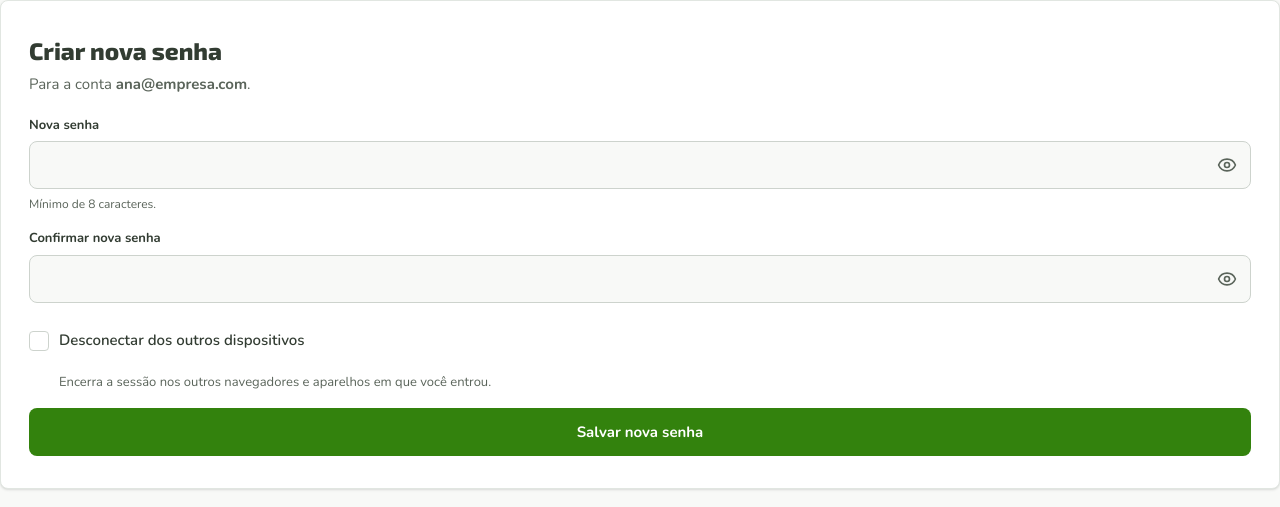
Test: ResetPasswordForm › shows the API message on the password field on 422 with errors.password
Type "new-secret-1" into the password field labelled "Nova senha".
click(640, 165); type("new-secret-1")  # box top-left (29, 141), bottom-right (1251, 189)
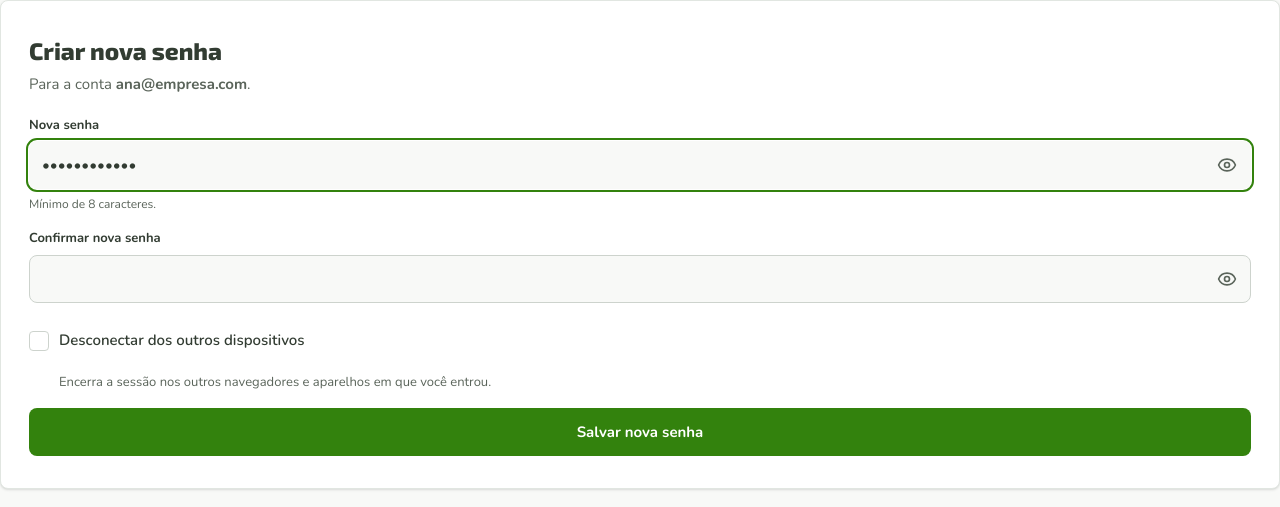
Type "new-secret-1" into the password field labelled "Confirmar nova senha".
click(640, 278); type("new-secret-1")  # box top-left (29, 254), bottom-right (1251, 302)
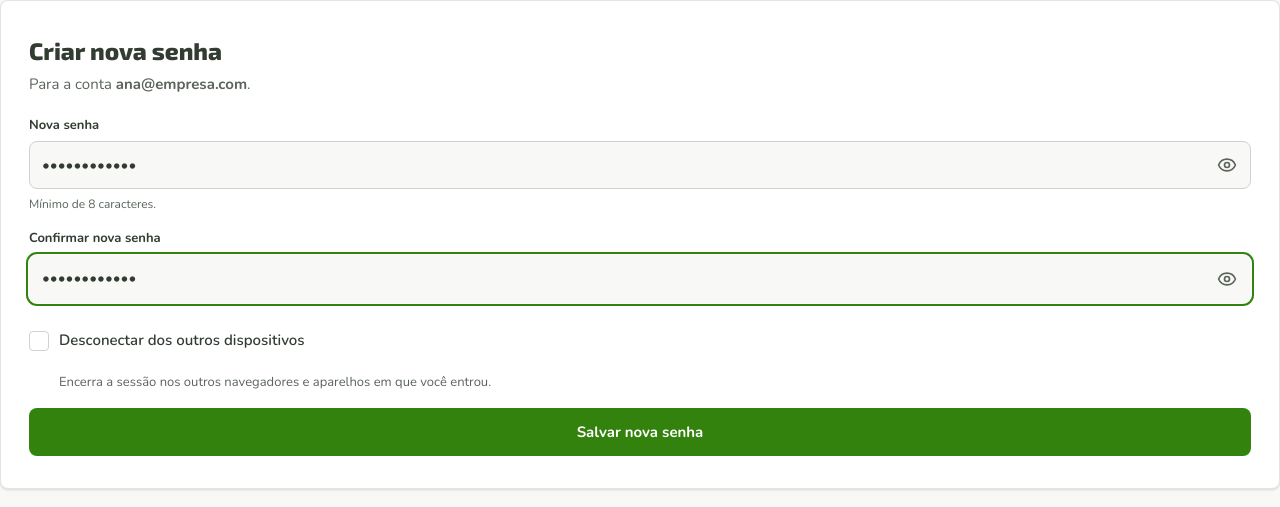
Click the button "Salvar nova senha".
click(640, 432)  # box top-left (29, 408), bottom-right (1251, 456)
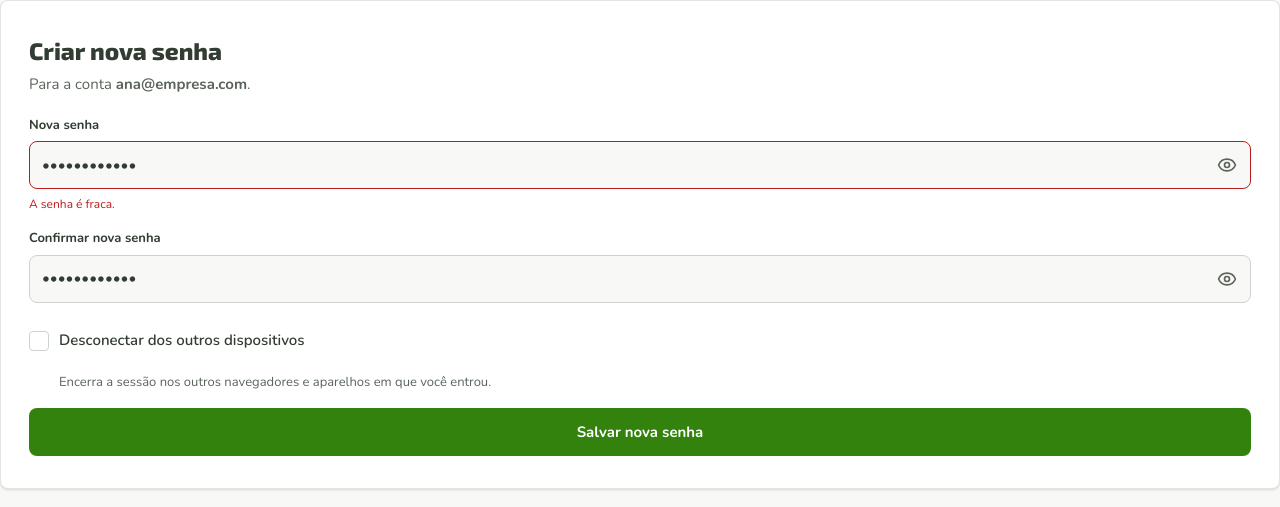
expect the text "A senha é fraca." is shown: met, box top-left (29, 196), bottom-right (115, 212)
